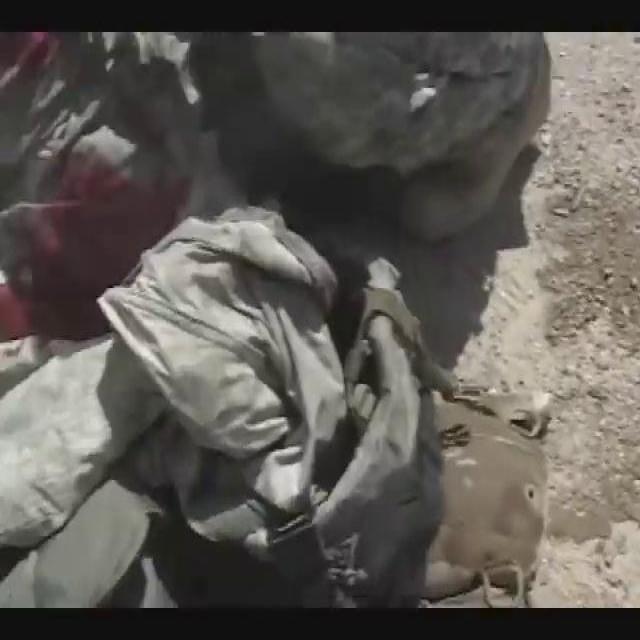flood: (15, 166, 186, 338)
